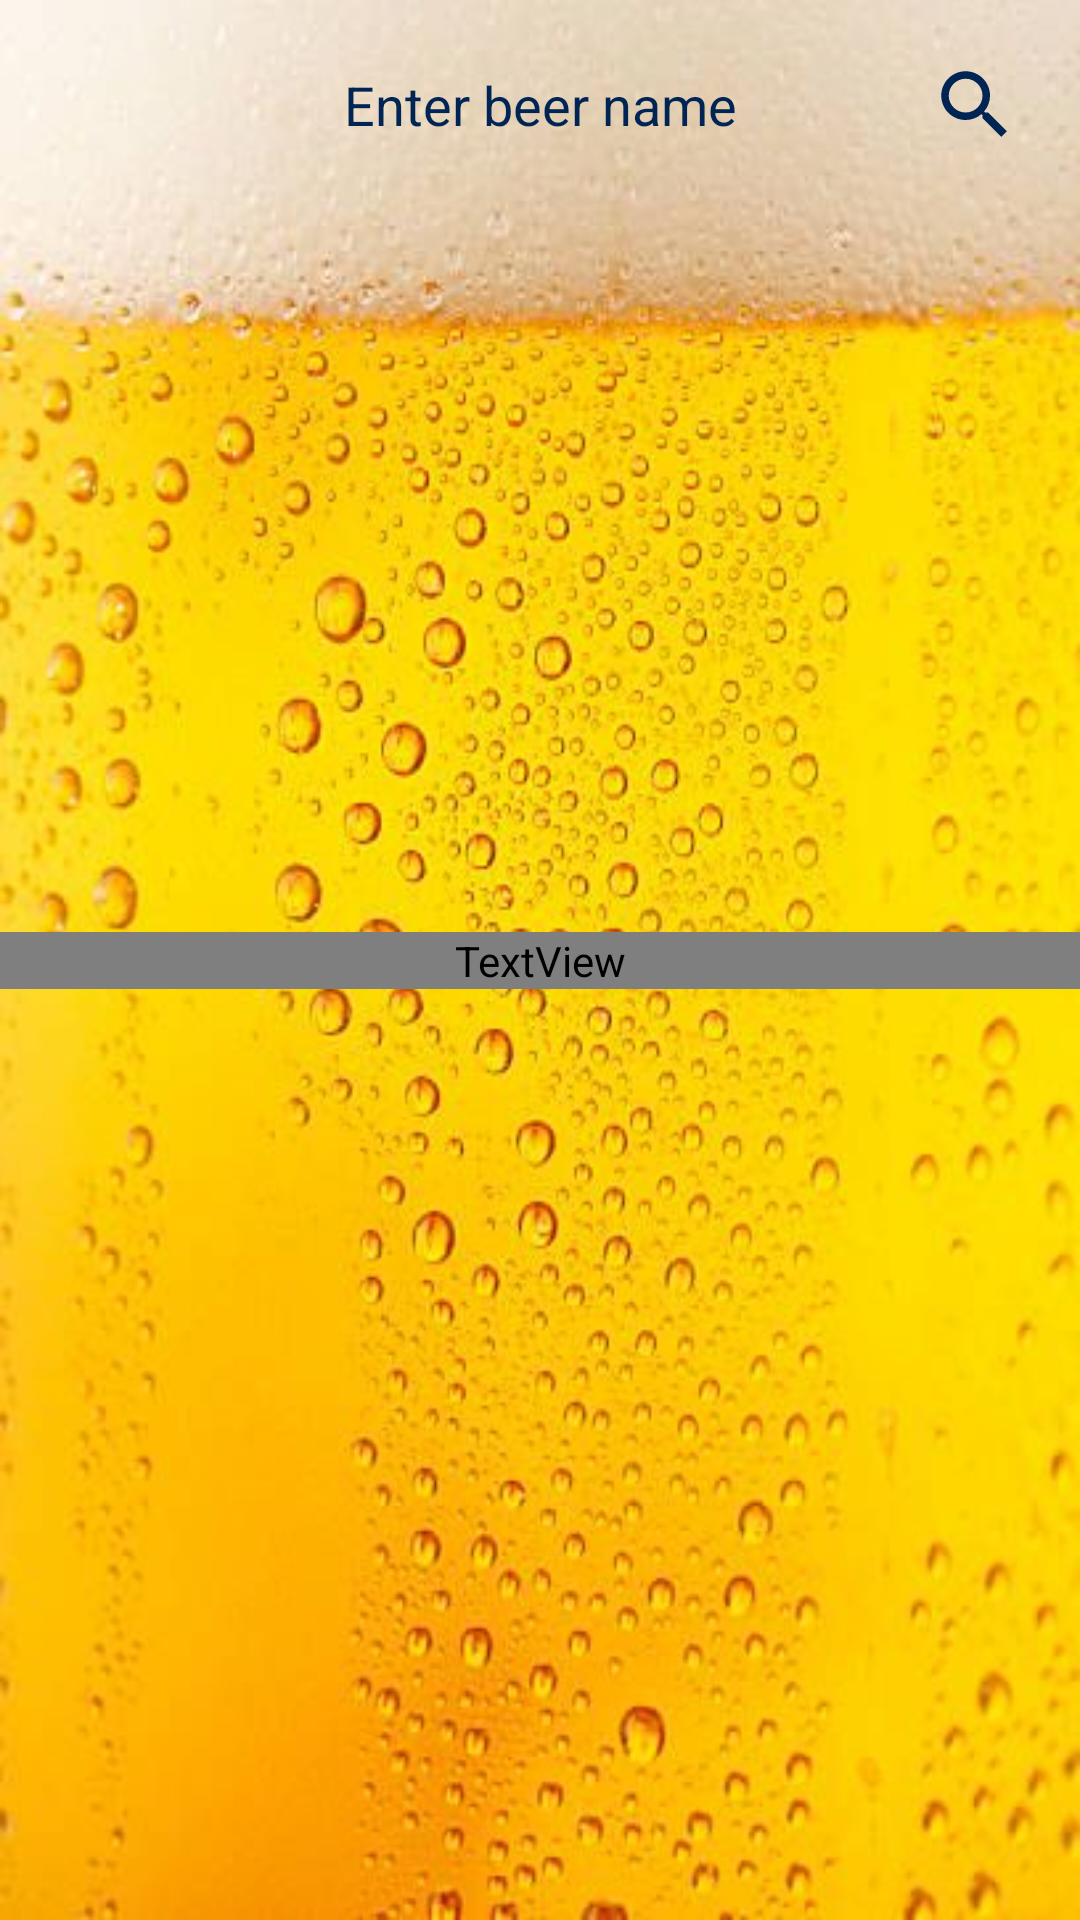

Where to tap for icons on this 1080*1920 app screen, as [x,y]:
search: [974,104]
